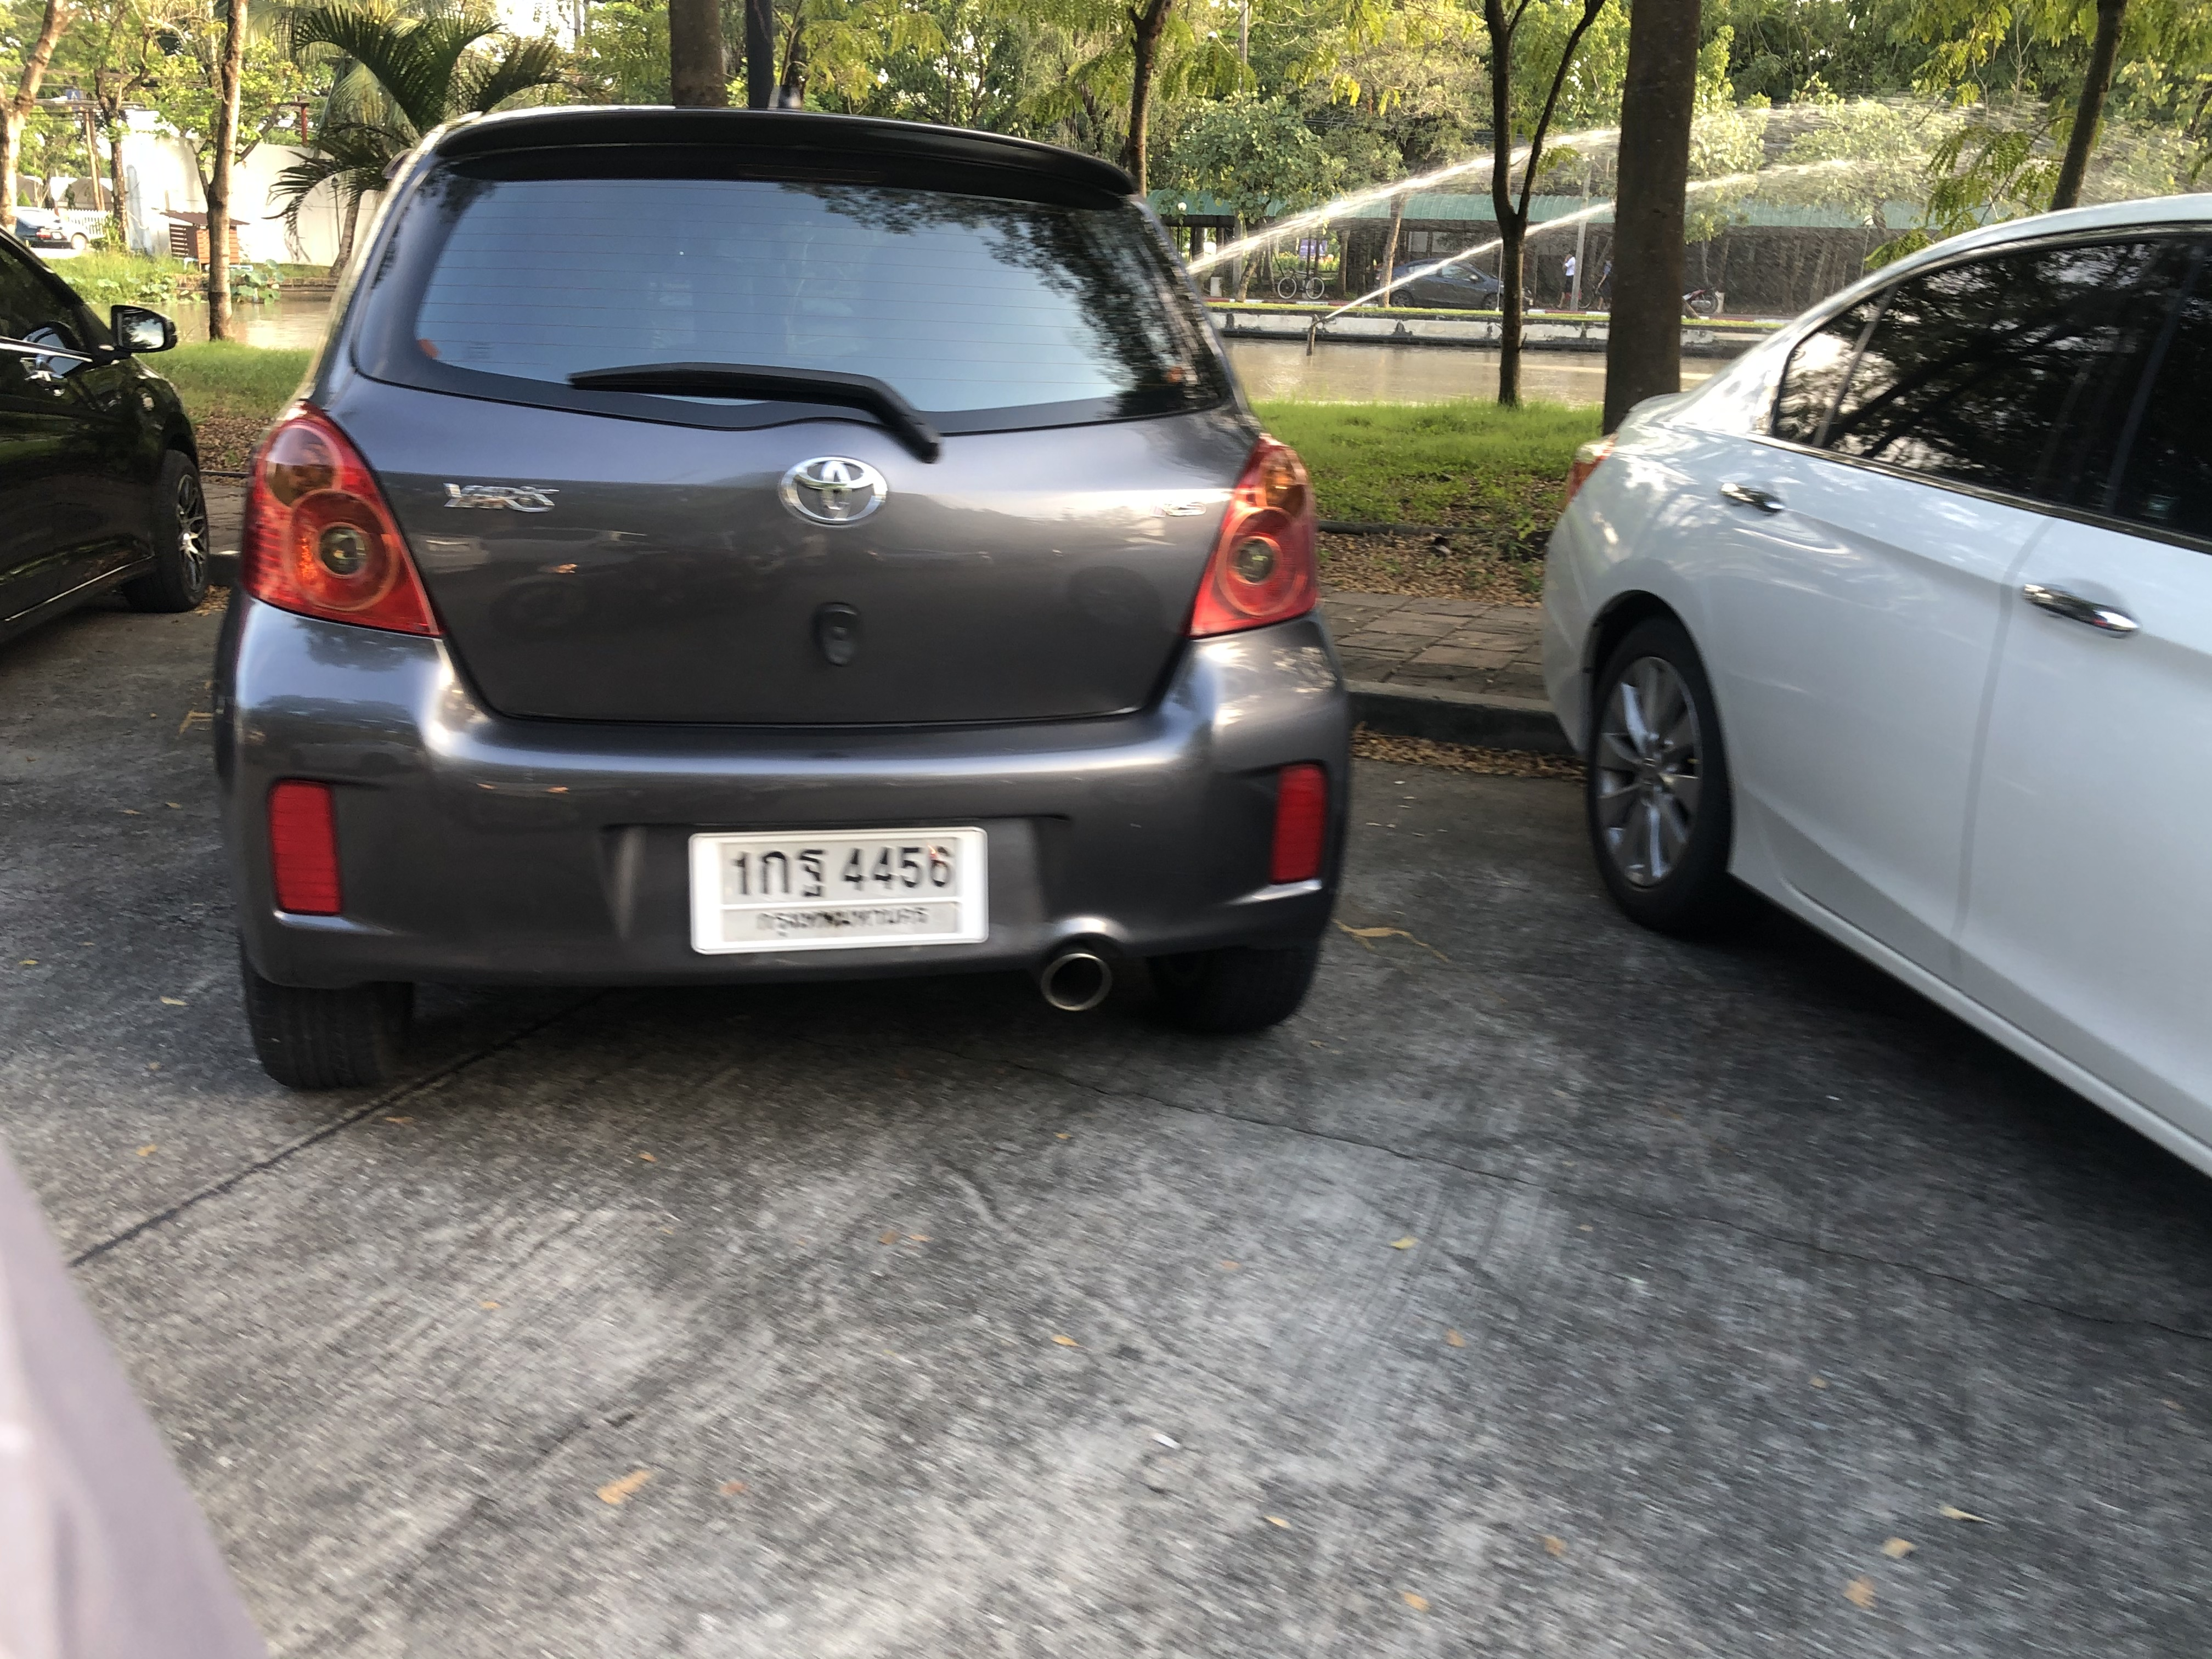in: (721, 845, 961, 934)
out: (683, 828, 991, 945)
